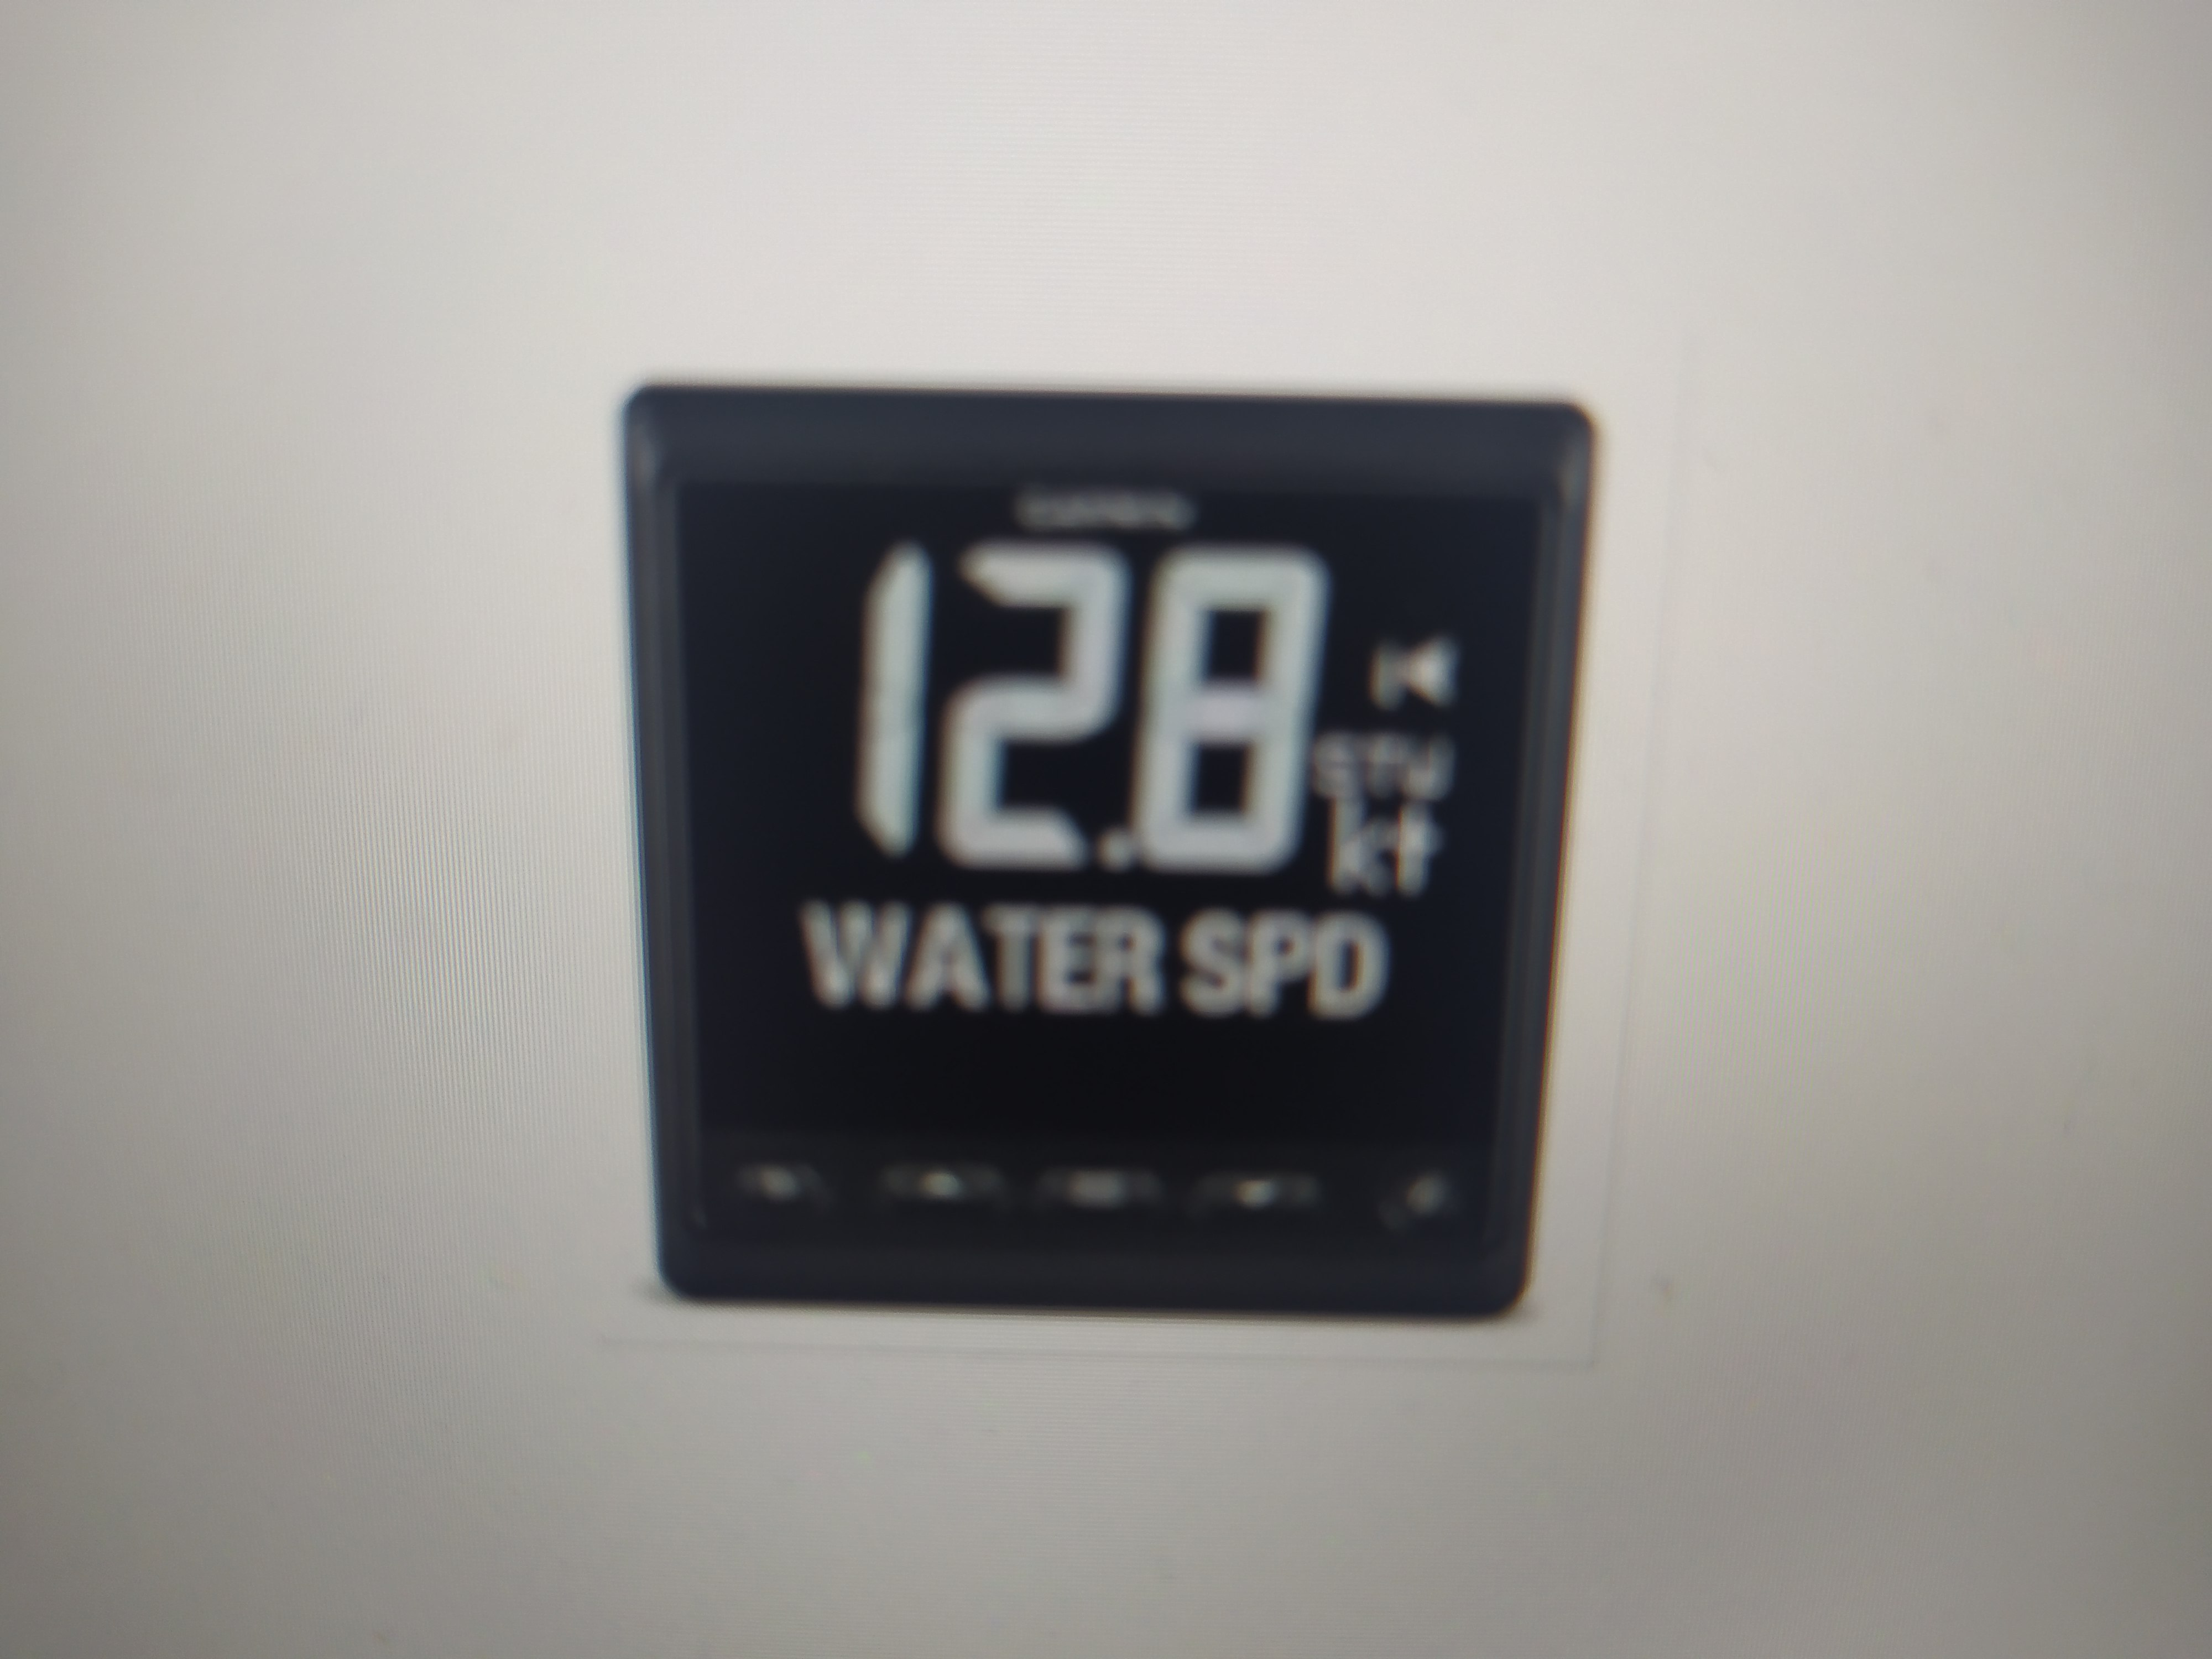.: (1101, 538, 1146, 866)
1: (853, 537, 928, 859)
2: (942, 538, 1129, 866)
8: (1137, 545, 1329, 873)
